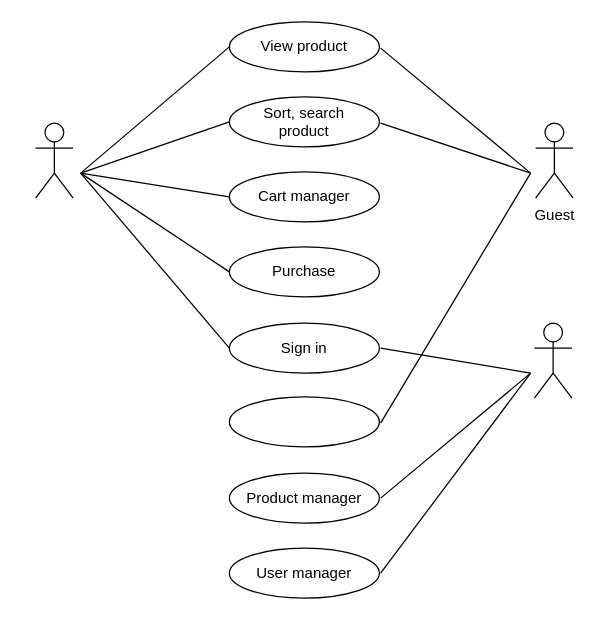
Image size: 596x620. Some labels were removed from this diagram. The shapes that lost their labels are listed below. From the top down, each one's centre as x and y in pixels, then its label:
the point at 53,160: Customer
the point at 552,360: Admin
the point at 303,421: Sign up
